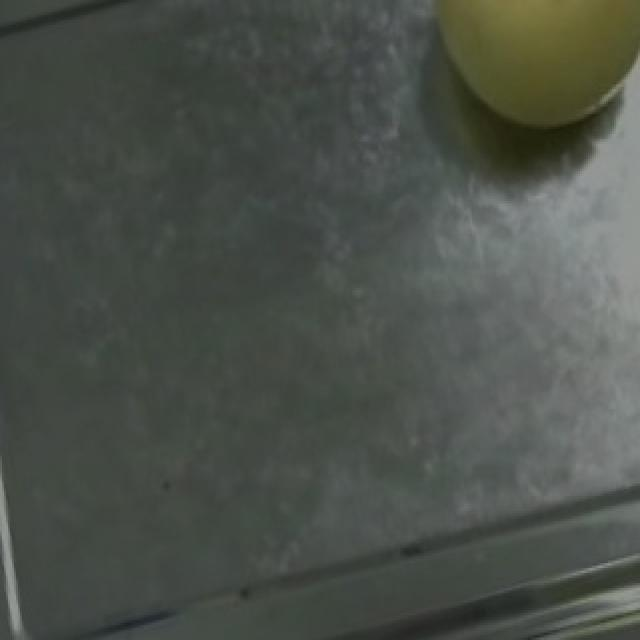Fruit: (390, 0, 640, 159)
